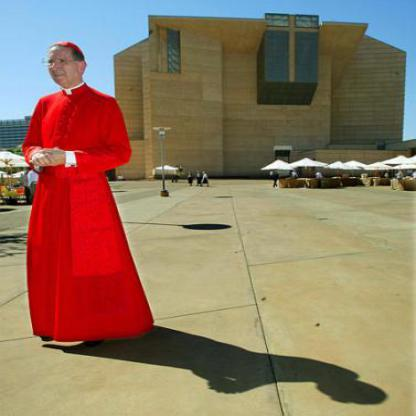face: (48, 46, 82, 88)
